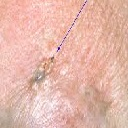Carcinoma: (29, 54, 60, 89)
